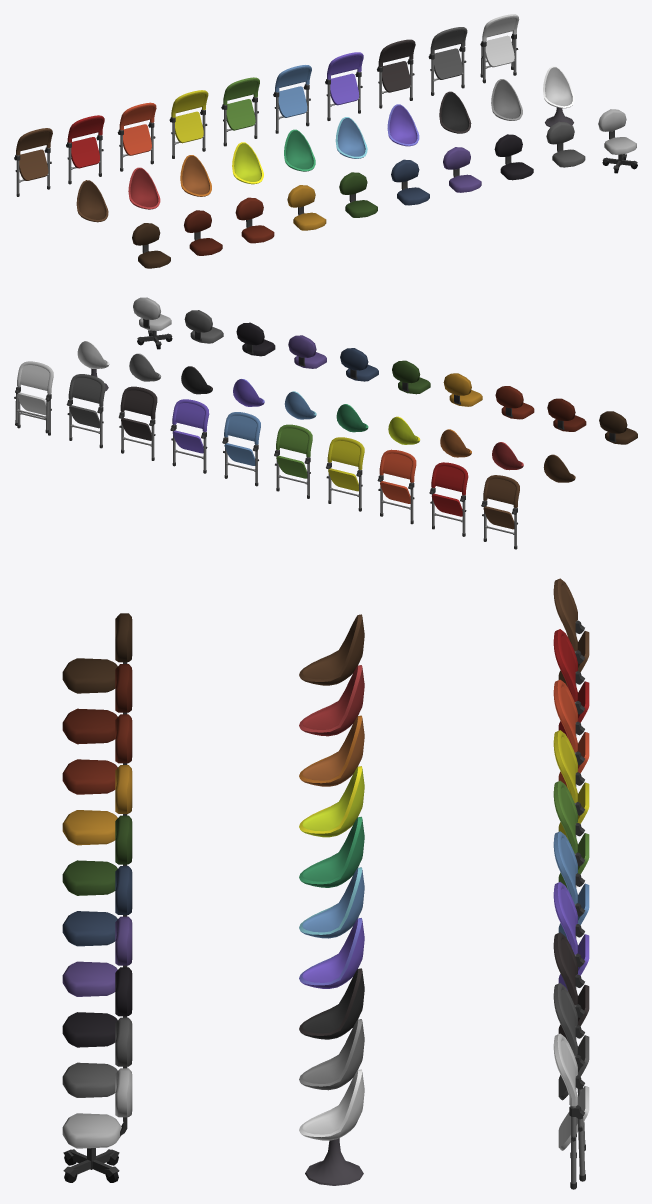
Rendered from Chairs.fbx.
3 views of the same model, one above another, from view 1: azimuth 30°, elevation 25°; view 2: azimuth 150°, elevation 25°; view 3: azimuth 270°, elevation 25° (orthographic). The views are drawn at different scales.
Parts seen in each view (by area): view 1: OfficeChairOrange, OfficeChairGrey, OfficeChairBlack, OfficeChairBlue, OfficeChairBrown, OfficeChairYellow, OfficeChairGreen, OfficeChairRed, OfficeChairPurple, OfficeChair, PlasticChairRed, PlasticChairPurple (+28 smaller); view 2: FoldableChairBlack, FoldableChairOrange, FoldableChairRed, FoldableChairPurple, FoldableChairYellow, FoldableChairGreen, FoldableChairGrey, FoldableChairBrown, FoldableChairBlue, FoldableChairWhite, OfficeChairBlack, OfficeChairOrange (+28 smaller); view 3: OfficeChair, OfficeChairPurple, OfficeChairGreen, OfficeChairGrey, OfficeChairOrange, OfficeChairBrown, OfficeChairBlack, OfficeChairRed, OfficeChairYellow, OfficeChairBlue, PlasticChairBlue, PlasticChairYellow (+20 smaller).
Part boxes in pixels (x1,y1,x2,y2): OfficeChairOrange: [235, 197, 274, 243]; OfficeChairGrey: [546, 121, 585, 167]; OfficeChairBlack: [494, 134, 533, 180]; OfficeChairBlue: [391, 159, 429, 205]; OfficeChairBrown: [132, 223, 170, 268]; OfficeChairYellow: [287, 185, 326, 230]; OfficeChairGreen: [339, 172, 377, 217]; OfficeChairRed: [184, 210, 222, 255]; OfficeChairPurple: [443, 147, 481, 192]; OfficeChair: [598, 109, 636, 154]; PlasticChairRed: [128, 167, 160, 209]; PlasticChairPurple: [387, 104, 419, 146]; FoldableChairBlack: [118, 386, 157, 460]; FoldableChairOrange: [377, 449, 416, 524]; FoldableChairRed: [429, 462, 468, 536]; FoldableChairPurple: [170, 399, 209, 473]; FoldableChairYellow: [326, 437, 364, 511]; FoldableChairGreen: [274, 424, 312, 498]; FoldableChairGrey: [66, 374, 105, 448]; FoldableChairBrown: [481, 475, 519, 549]; FoldableChairBlue: [222, 412, 260, 486]; FoldableChairWhite: [15, 361, 53, 435]; OfficeChairBlack: [236, 322, 275, 356]; OfficeChairOrange: [495, 386, 534, 419]; OfficeChair: [62, 1068, 132, 1148]; OfficeChairPurple: [62, 916, 132, 996]; OfficeChairGreen: [62, 815, 132, 895]; OfficeChairGrey: [62, 1017, 132, 1097]; OfficeChairOrange: [62, 714, 132, 794]; OfficeChairBrown: [62, 613, 132, 693]; OfficeChairBlack: [62, 967, 132, 1047]; OfficeChairRed: [62, 664, 132, 744]; OfficeChairYellow: [62, 765, 132, 845]; OfficeChairBlue: [62, 866, 132, 946]; PlasticChairBlue: [299, 867, 364, 938]; PlasticChairYellow: [299, 766, 364, 837].
Bounding box in the file's own units: 9.68 × 1.22 × 4.4.
